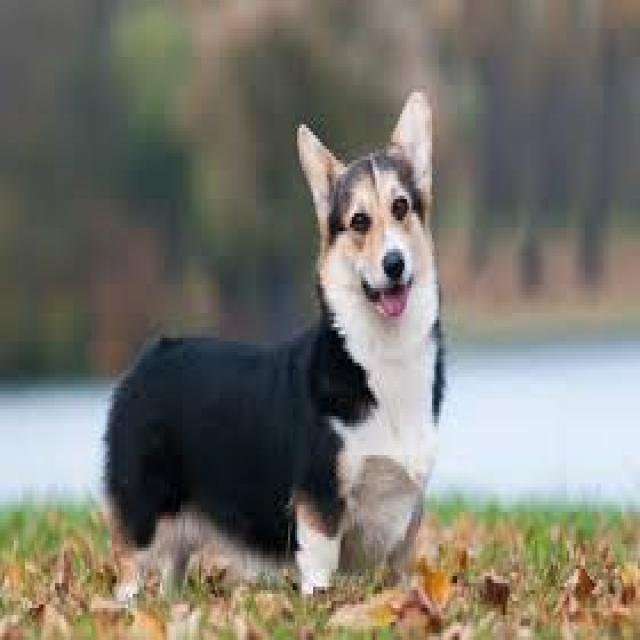CORGI: (83, 67, 454, 634)
